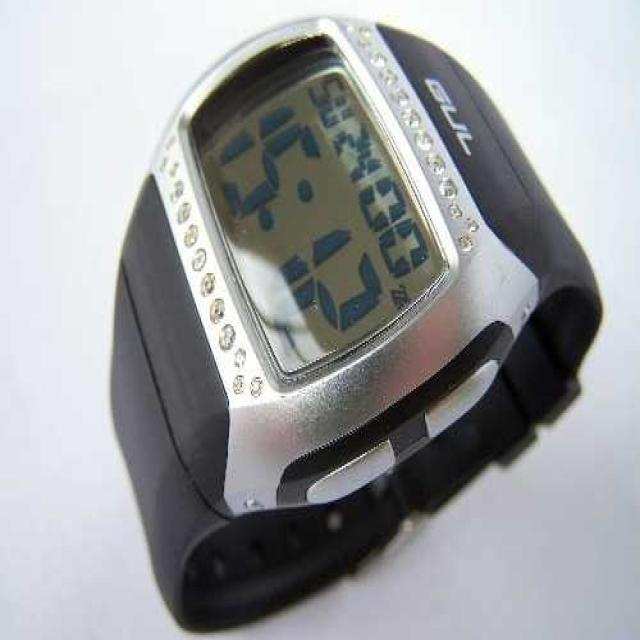watch: (167, 54, 448, 398)
